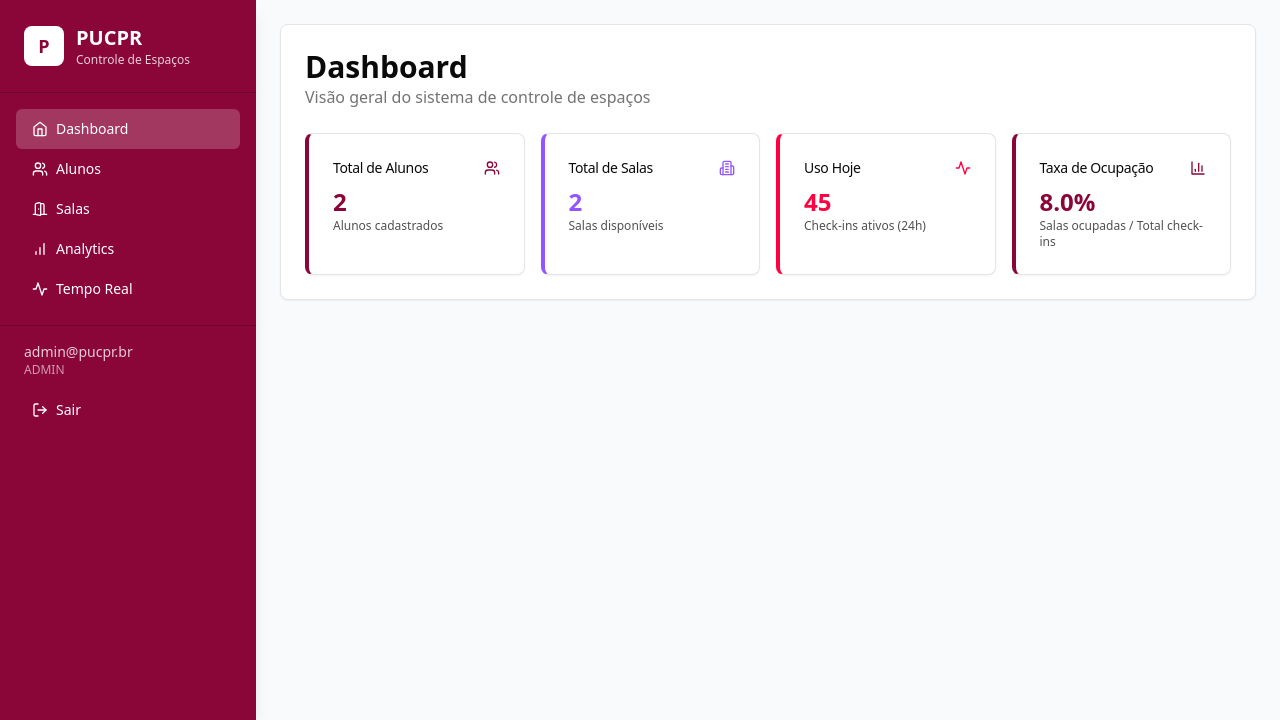
Dashboard › should navigate to Rooms page
Click the link "Salas".
click(128, 211)  # box 16,200 -> 240,222
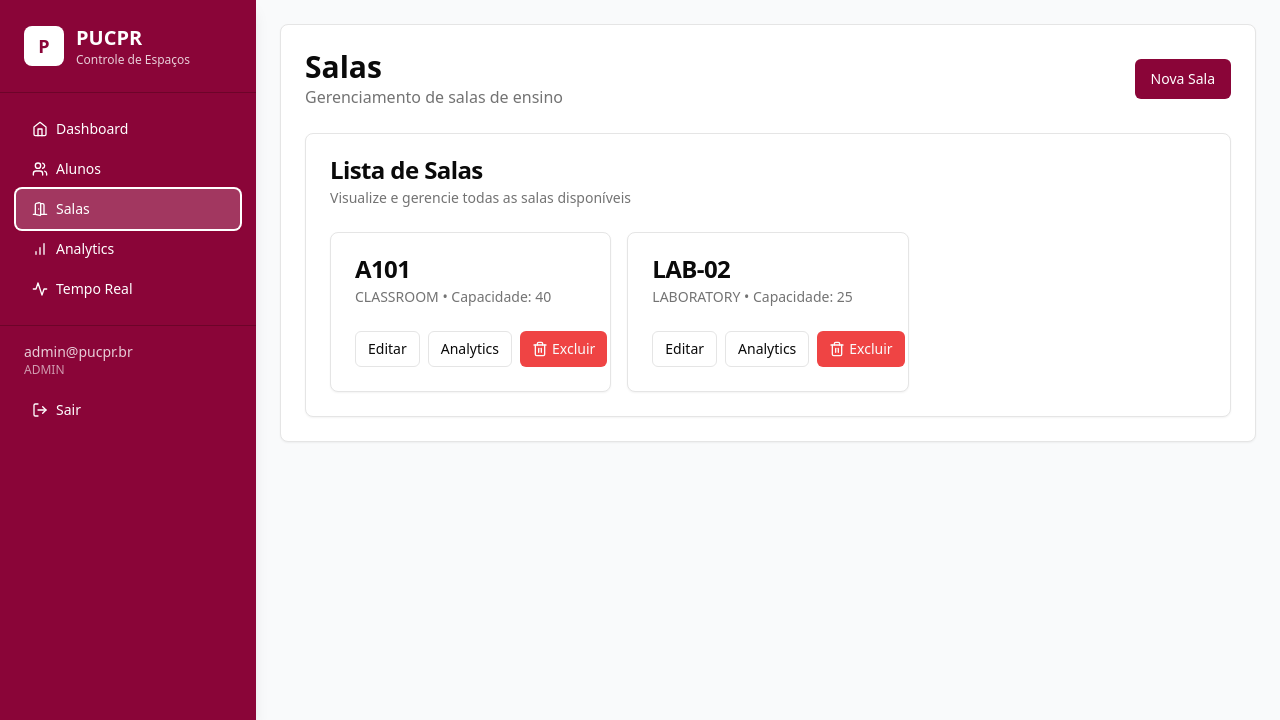
expect the heading "Salas" is shown: met, box 305,46 -> 382,87
